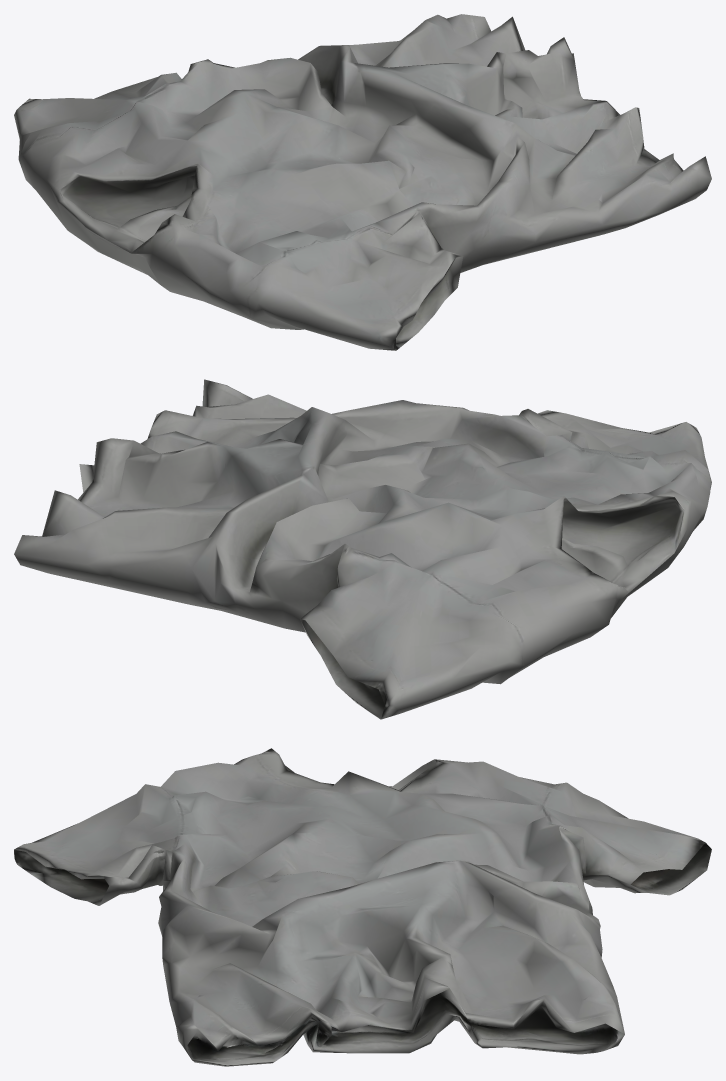
Rendered from ground_shirt.glb.
3 renders of one model, top to bottom at view 1: azimuth 30°, elevation 25°; view 2: azimuth 150°, elevation 25°; view 3: azimuth 270°, elevation 25°, orthographic.
Visible parts, largest first — view 1: ground_shirt; view 2: ground_shirt; view 3: ground_shirt.
Boxes of the visible parts, x1=… form: ground_shirt: x1=14, y1=14, x2=711, y2=350; ground_shirt: x1=14, y1=379, x2=711, y2=719; ground_shirt: x1=14, y1=748, x2=711, y2=1066.
Size of the model in its own units: 0.4431 by 0.095 by 0.5.
Materials: 1 (1 with a texture image).
